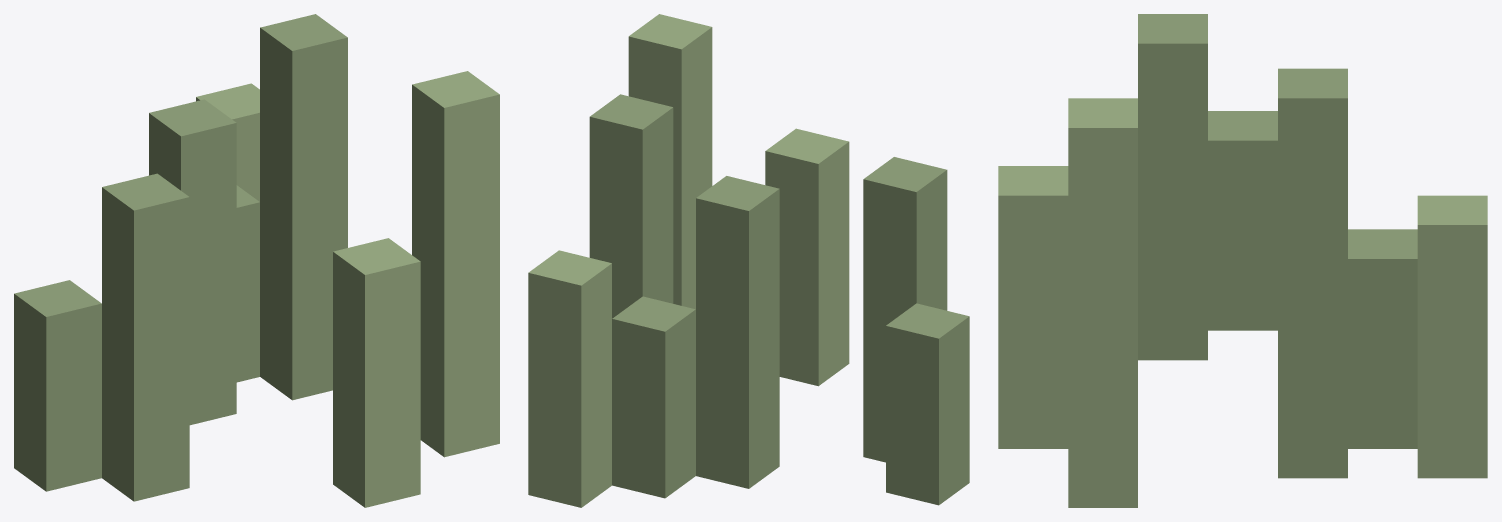
The model's file is acedera_de_altura_03.glb.
The picture shows the model from 3 angles, left to right: view 1: azimuth 30°, elevation 25°; view 2: azimuth 150°, elevation 25°; view 3: azimuth 270°, elevation 25°; orthographic projection. The views are drawn at different scales.
Visible parts, largest first — view 1: acedera_de_altura_03; view 2: acedera_de_altura_03; view 3: acedera_de_altura_03.
Boxes of the visible parts, box(x1,y1,x2,y2) form: acedera_de_altura_03: box(14, 14, 499, 507); acedera_de_altura_03: box(528, 14, 969, 507); acedera_de_altura_03: box(998, 14, 1487, 507).
Bounding box in the file's own units: 0.7 × 0.6 × 0.7.
